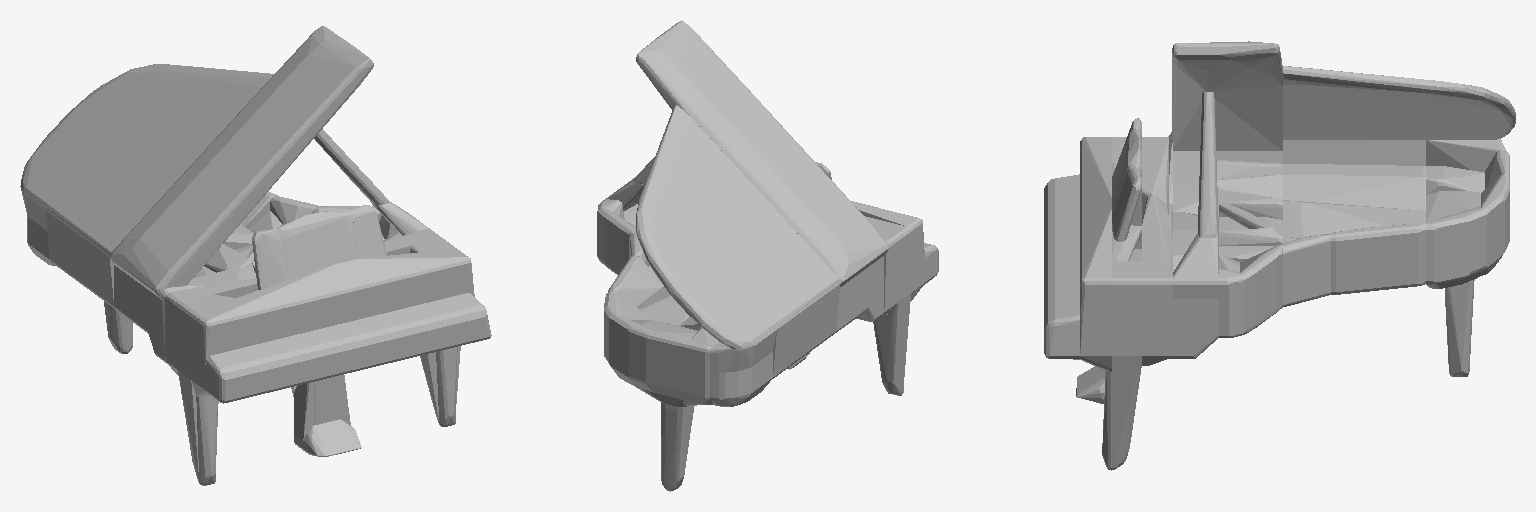
URDF robot description (root):
<?xml version="1.0"?>
<robot name="root">
  <link name="base_link">
    <visual>
      <origin xyz="0 0 0" rpy="0 0 0" />
      <geometry>
        <mesh filename="../meshes/unidex_sem_Piano-518952ec821e3e60781551ea381688bd_008.obj" scale="1.0000E+00 1.0000E+00 1.0000E+00" />
      </geometry>
      <material name="">
        <color rgba="7.50E-01 7.50E-01 7.50E-01 1" />
      </material>
    </visual>
    <collision>
      <origin xyz="0 0 0" rpy="0 0 0" />
      <geometry>
        <mesh filename="../meshes/unidex_sem_Piano-518952ec821e3e60781551ea381688bd_008.obj" scale="1.0000E+00 1.0000E+00 1.0000E+00" />
      </geometry>
    </collision>
  </link>
</robot>

--- Render facts (derived) ---
3 views of the same robot in one strip: view 1: azimuth 30°, elevation 25°; view 2: azimuth 150°, elevation 25°; view 3: azimuth 270°, elevation 25° (orthographic).
Model root with 1 links and 0 joints (none), rooted at base_link, posed all joints at 0.
Links seen in each view (by area): view 1: base_link; view 2: base_link; view 3: base_link.
Link boxes in pixels (<box>): base_link: <box>20,26,491,485</box>; base_link: <box>597,20,938,491</box>; base_link: <box>1044,41,1515,470</box>.
Size in the robot's own frame: 0.0867 by 0.1143 by 0.1066 metres.
1 mesh visuals loaded from 1 distinct referenced files (1 OBJ).
